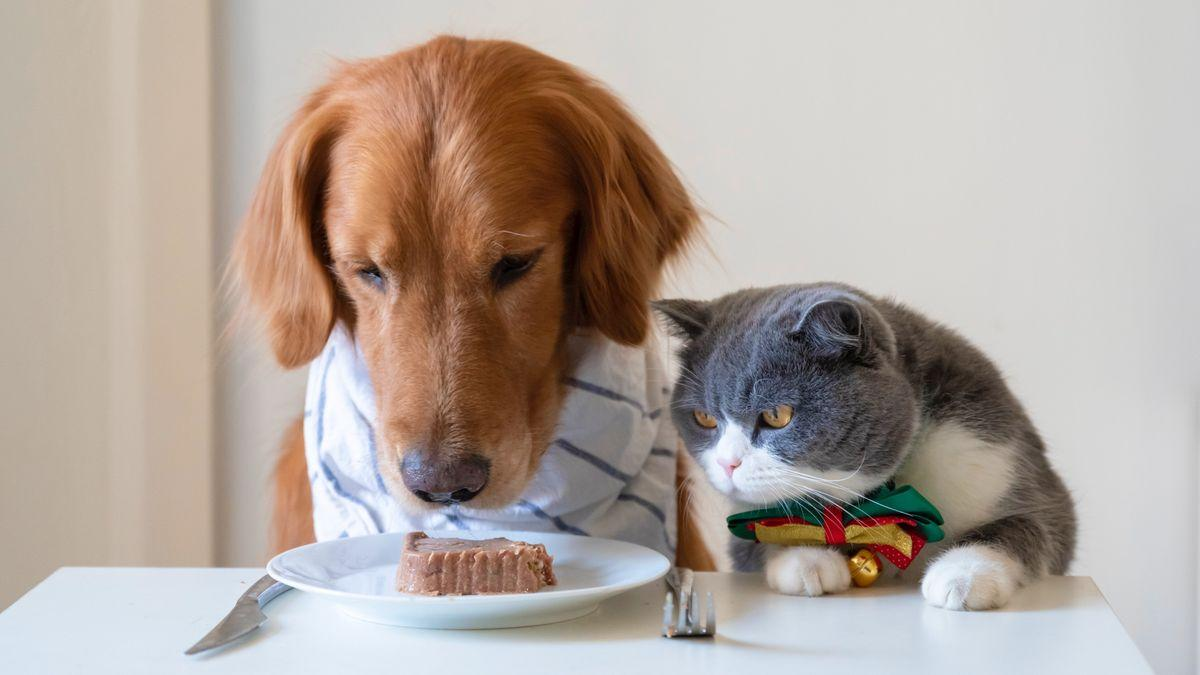cat: (663, 267, 1094, 605)
dog: (147, 64, 667, 526)
